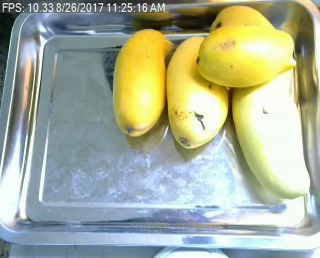Mango: (233, 73, 311, 199), (167, 33, 229, 149), (112, 29, 175, 137), (196, 26, 296, 86), (210, 3, 296, 70)
